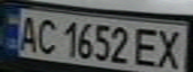1: (57, 18, 78, 57)
2: (109, 24, 136, 65)
5: (90, 21, 115, 63)
6: (75, 19, 96, 61)
A: (12, 12, 42, 53)
C: (33, 16, 60, 55)
E: (130, 25, 163, 69)
X: (151, 26, 190, 71)
